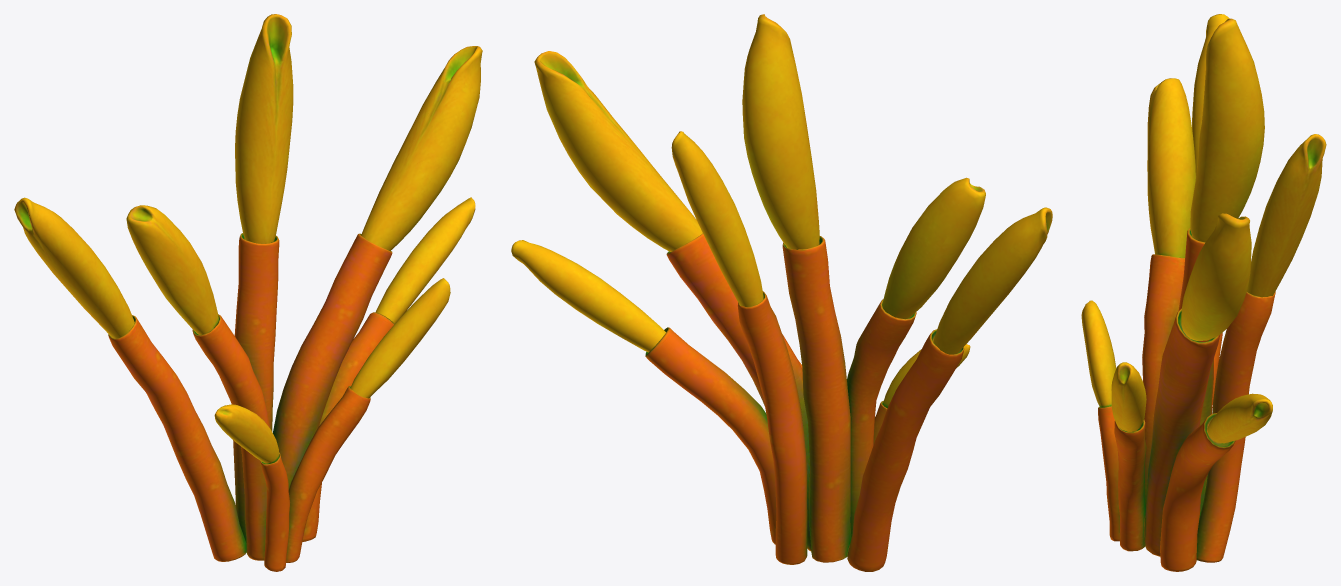
File: Gianttubeworm.glb
3 renders of one model, left to right at view 1: azimuth 30°, elevation 25°; view 2: azimuth 150°, elevation 25°; view 3: azimuth 270°, elevation 25°, orthographic. The views are drawn at different scales.
Visible parts, largest first — view 1: tube_worm_LOD1.1; view 2: tube_worm_LOD1.1; view 3: tube_worm_LOD1.1.
Part boxes in pixels (bbox=[...]): tube_worm_LOD1.1: bbox=[14, 14, 482, 571]; tube_worm_LOD1.1: bbox=[511, 14, 1052, 571]; tube_worm_LOD1.1: bbox=[1081, 14, 1326, 571].
Size of the model in its own units: 0.3723 by 0.3803 by 0.1536.
1 material, 1 textured.
